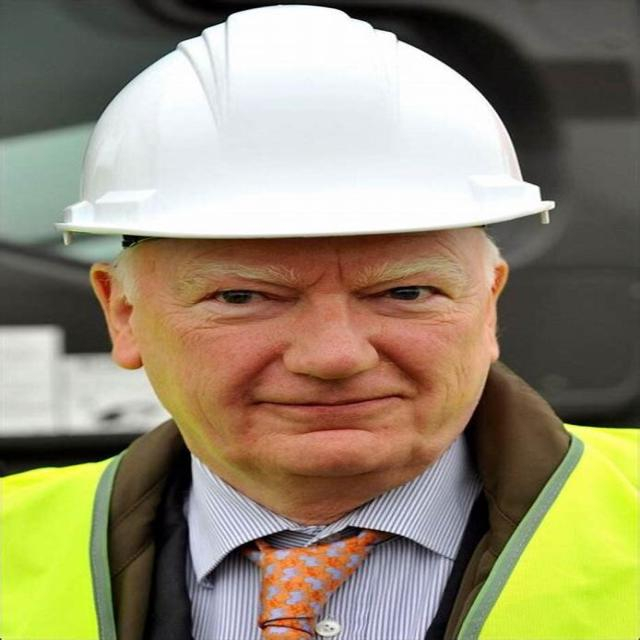illegal_helmet: (38, 0, 572, 496)
